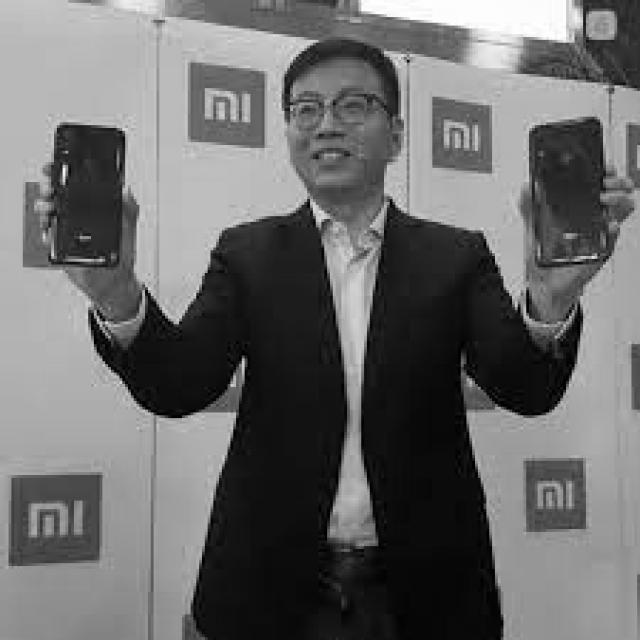No gun_phone: (529, 118, 609, 268), (49, 125, 128, 271)
